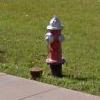Hydrant: (37, 10, 71, 78)
